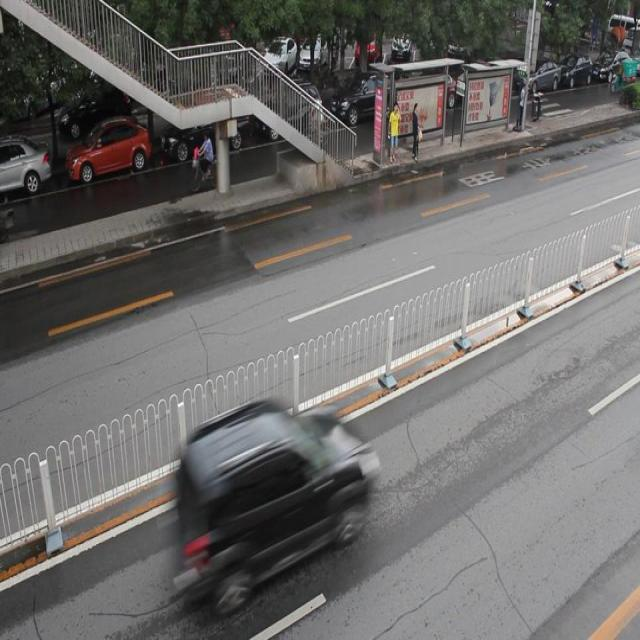car: (173, 398, 374, 608), (66, 114, 151, 178), (160, 102, 248, 160), (255, 84, 322, 141), (329, 75, 399, 125), (1, 130, 49, 192)
